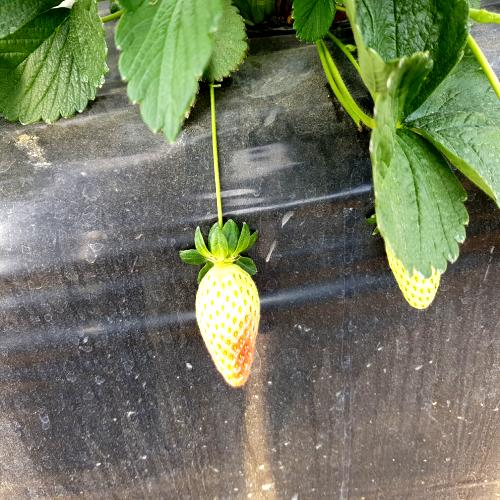partially-ripe: (190, 256, 274, 399)
